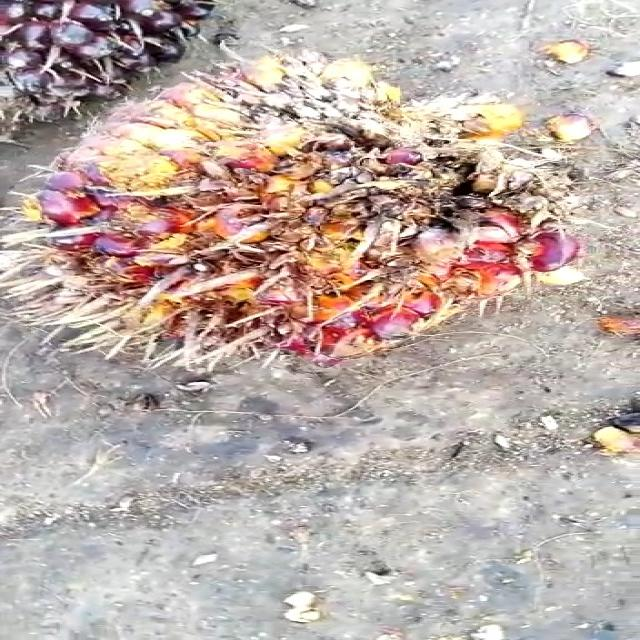palm oil: (5, 69, 606, 371)
